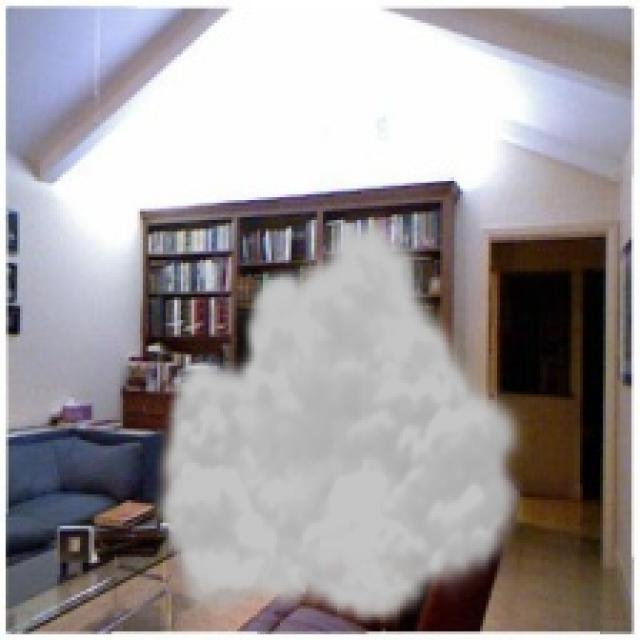smoke: (149, 208, 534, 628)
